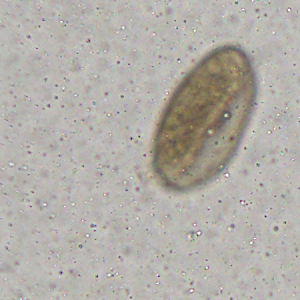Fasciola_hepatica_egg: (150, 44, 259, 191)
